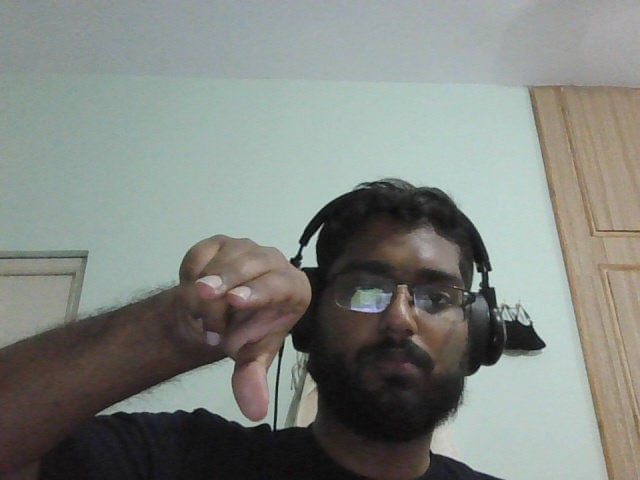No: (149, 201, 313, 435)
